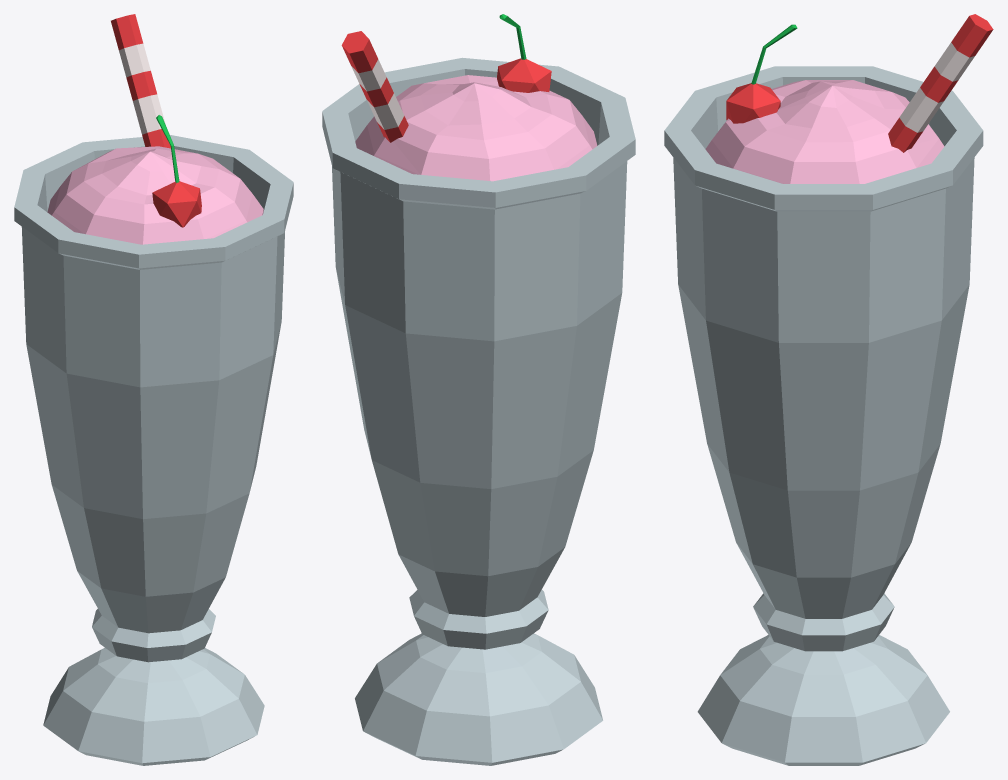
Rendered from Milkshake.glb.
The picture shows the model from 3 angles, left to right: view 1: azimuth 30°, elevation 25°; view 2: azimuth 150°, elevation 25°; view 3: azimuth 270°, elevation 25°; orthographic projection. The views are drawn at different scales.
Visible parts, largest first — view 1: Glass, Milkshake; view 2: Glass, Milkshake; view 3: Glass, Milkshake.
Part boxes in pixels (x1=…): Glass: x1=14, y1=135, x2=293, y2=765; Milkshake: x1=47, y1=14, x2=263, y2=244; Glass: x1=322, y1=57, x2=635, y2=765; Milkshake: x1=341, y1=14, x2=597, y2=181; Glass: x1=664, y1=66, x2=983, y2=765; Milkshake: x1=705, y1=14, x2=993, y2=183.
Bounding box in the file's own units: 0.7046 × 1.86 × 0.7645.
2 materials, 1 textured.
